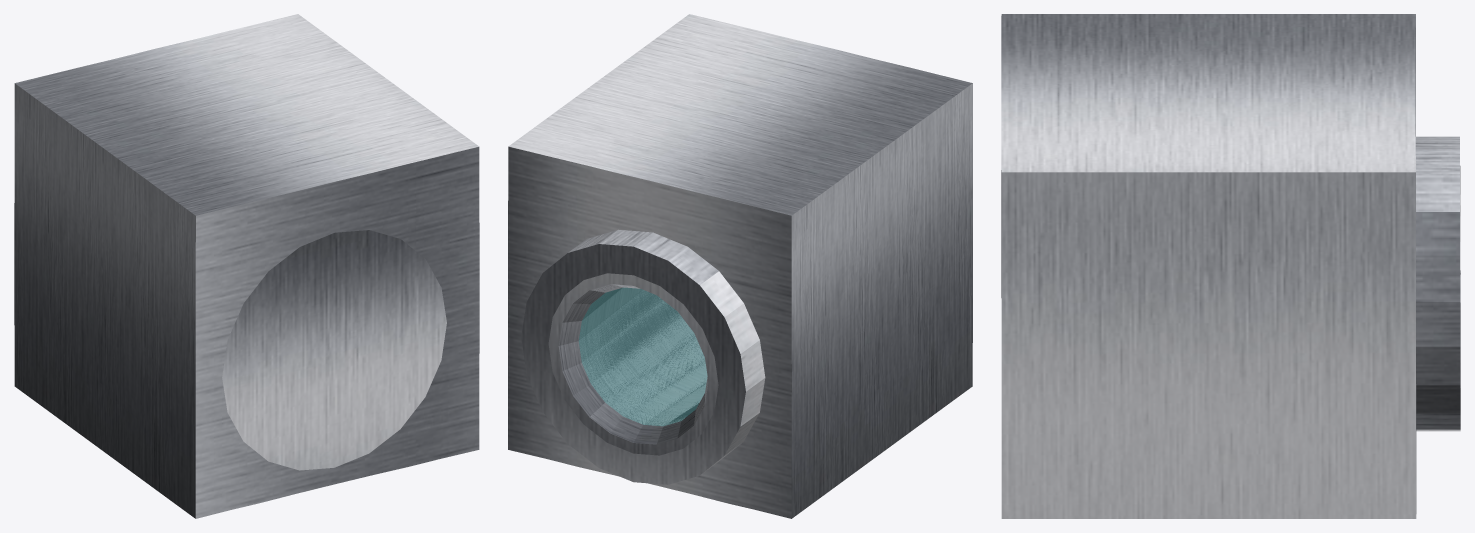
File: washer2.fbx
The picture shows the model from 3 angles, left to right: view 1: azimuth 30°, elevation 25°; view 2: azimuth 150°, elevation 25°; view 3: azimuth 270°, elevation 25°; orthographic projection. The views are drawn at different scales.
Visible parts, largest first — view 1: pCylinder1; view 2: pCylinder1; view 3: pCylinder1.
Part boxes in pixels (left/top/right/bottom): pCylinder1: left=14, top=14, right=479, bottom=518; pCylinder1: left=508, top=14, right=972, bottom=518; pCylinder1: left=1001, top=14, right=1460, bottom=518.
Bounding box in the file's own units: 0.9419 × 0.9621 × 1.15.
Materials: 2 (1 with a texture image).
